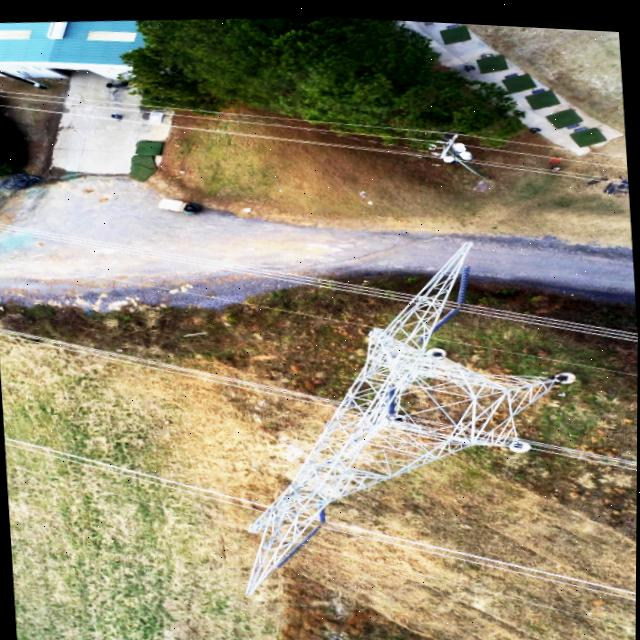poles: (247, 236, 560, 591)
wires: (0, 87, 628, 186), (0, 223, 415, 296), (0, 327, 339, 403), (323, 516, 637, 593), (5, 436, 269, 507), (446, 290, 638, 333), (518, 432, 638, 462)
